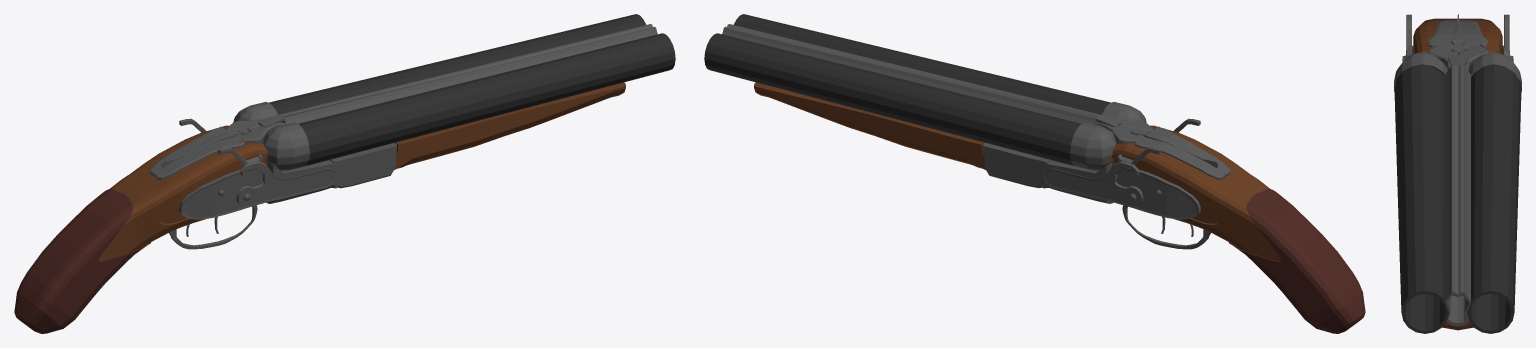
Rendered from Sawed_off_shotgun.fbx.
The picture shows the model from 3 angles, left to right: view 1: azimuth 30°, elevation 25°; view 2: azimuth 150°, elevation 25°; view 3: azimuth 270°, elevation 25°; orthographic projection. The views are drawn at different scales.
Parts seen in each view (by area): view 1: Cylinder, Cube.003, Cube.007, Cube, Cube.001, Plane, Sphere.001, Cube.004, Cube.006, Circle, Cube.005, Plane.002 (+1 smaller); view 2: Cylinder, Cube.003, Cube.007, Cube, Cube.001, Plane, Sphere.001, Cube.004, Cube.006, Circle, Cube.005, Plane.002 (+1 smaller); view 3: Cylinder, Cube, Sphere.001, Cube.007, Cube.006, Plane.002, Cube.009, Circle.001, Cube.003, Cube.001.
Boxes of the visible parts, left/top/right/bottom form: Cylinder: left=269, top=14, right=675, bottom=166; Cube.003: left=14, top=189, right=150, bottom=333; Cube.007: left=99, top=125, right=267, bottom=261; Cube: left=258, top=24, right=657, bottom=127; Cube.001: left=394, top=82, right=625, bottom=169; Plane: left=179, top=163, right=336, bottom=219; Sphere.001: left=233, top=102, right=309, bottom=170; Cube.004: left=329, top=143, right=396, bottom=188; Cube.006: left=149, top=127, right=244, bottom=179; Circle: left=236, top=161, right=271, bottom=205; Cube.005: left=266, top=160, right=340, bottom=203; Plane.002: left=226, top=117, right=285, bottom=143; Cylinder: left=704, top=14, right=1110, bottom=166; Cube.003: left=1229, top=189, right=1365, bottom=333; Cube.007: left=1112, top=125, right=1280, bottom=261; Cube: left=722, top=24, right=1121, bottom=127; Cube.001: left=754, top=82, right=985, bottom=169; Plane: left=1043, top=163, right=1200, bottom=219; Sphere.001: left=1070, top=102, right=1146, bottom=170; Cube.004: left=983, top=143, right=1050, bottom=188; Cube.006: left=1135, top=127, right=1230, bottom=179; Circle: left=1108, top=161, right=1143, bottom=205; Cube.005: left=1039, top=160, right=1113, bottom=203; Plane.002: left=1094, top=120, right=1153, bottom=144; Cylinder: left=1394, top=64, right=1521, bottom=333; Cube: left=1445, top=54, right=1470, bottom=326; Sphere.001: left=1394, top=52, right=1521, bottom=92; Cube.007: left=1413, top=20, right=1502, bottom=65; Cube.006: left=1427, top=20, right=1488, bottom=48; Plane.002: left=1428, top=44, right=1488, bottom=76; Cube.009: left=1406, top=14, right=1509, bottom=57; Circle.001: left=1451, top=14, right=1465, bottom=52; Cube.003: left=1421, top=18, right=1494, bottom=24; Cube.001: left=1442, top=321, right=1473, bottom=330.
Size of the model in its own units: 1171 by 280 by 163.
